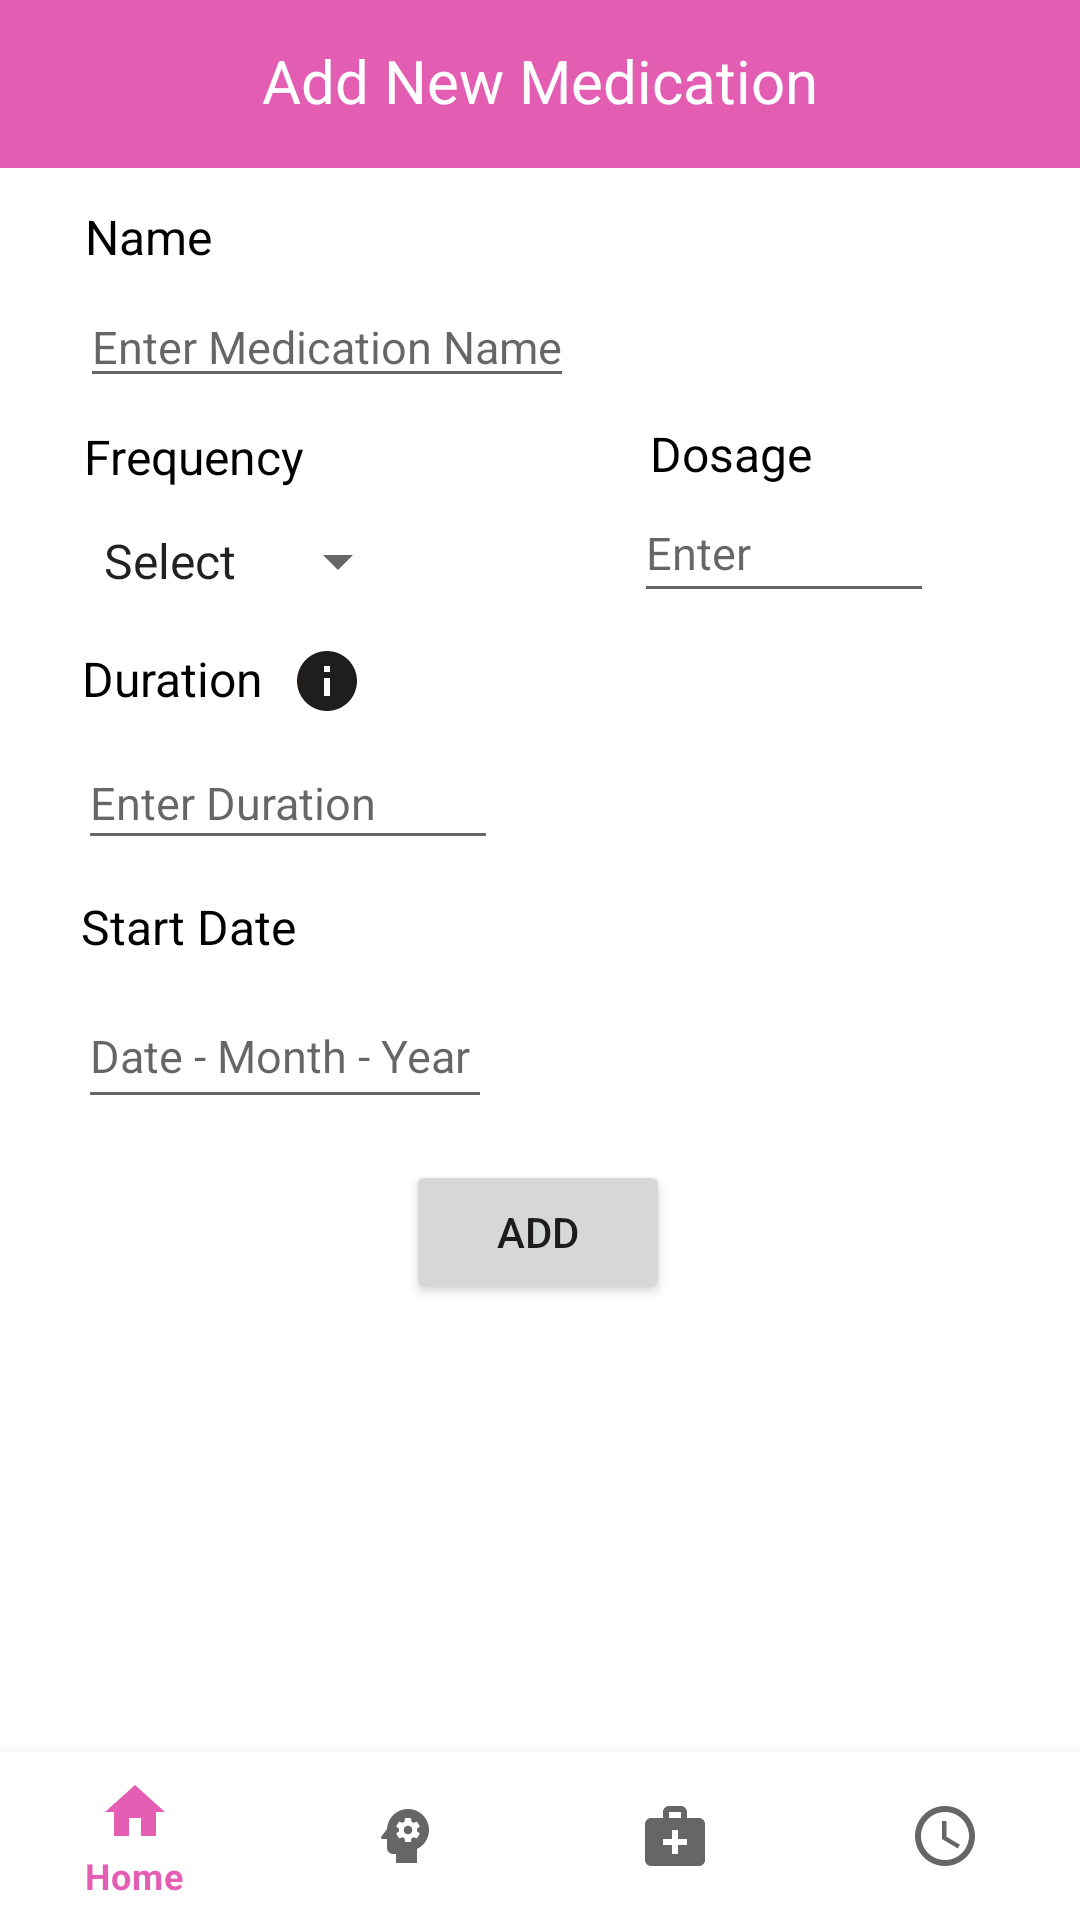

Named icons in this screenshot (1080px x 1920px) and their centers, [x,y]:
info: [327,681]
